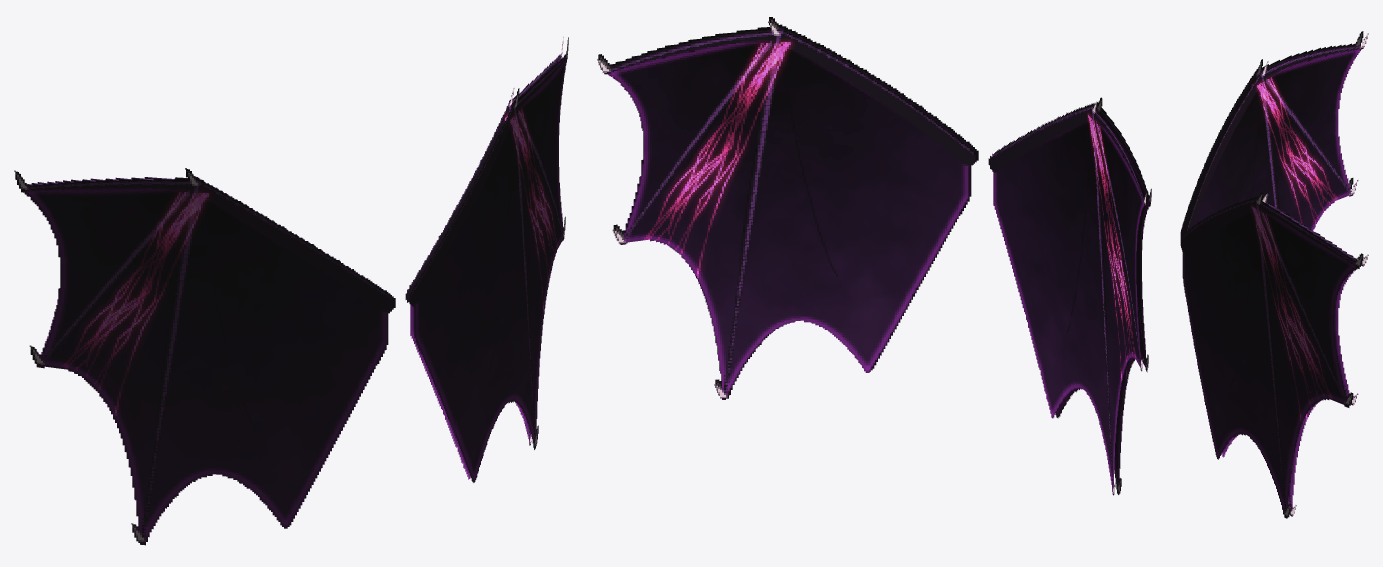
File: owner_void_wings.glb
3 renders of one model, left to right at view 1: azimuth 30°, elevation 25°; view 2: azimuth 150°, elevation 25°; view 3: azimuth 270°, elevation 25°, orthographic. The views are drawn at different scales.
Visible parts, largest first — view 1: Owner Void Emperor Wings Wing Right, Owner Void Emperor Wings Wing Left; view 2: Owner Void Emperor Wings Wing Left, Owner Void Emperor Wings Wing Right; view 3: Owner Void Emperor Wings Wing Left, Owner Void Emperor Wings Wing Right.
Part boxes in pixels (x1,y1,x2,y2): Owner Void Emperor Wings Wing Right: (14, 168, 395, 545); Owner Void Emperor Wings Wing Left: (405, 37, 568, 482); Owner Void Emperor Wings Wing Left: (597, 17, 978, 399); Owner Void Emperor Wings Wing Right: (988, 97, 1151, 495); Owner Void Emperor Wings Wing Left: (1180, 192, 1368, 518); Owner Void Emperor Wings Wing Right: (1180, 31, 1368, 237).
Bounding box in the file's own units: 2.3 × 1.52 × 0.8184.
2 materials, 2 textured.
